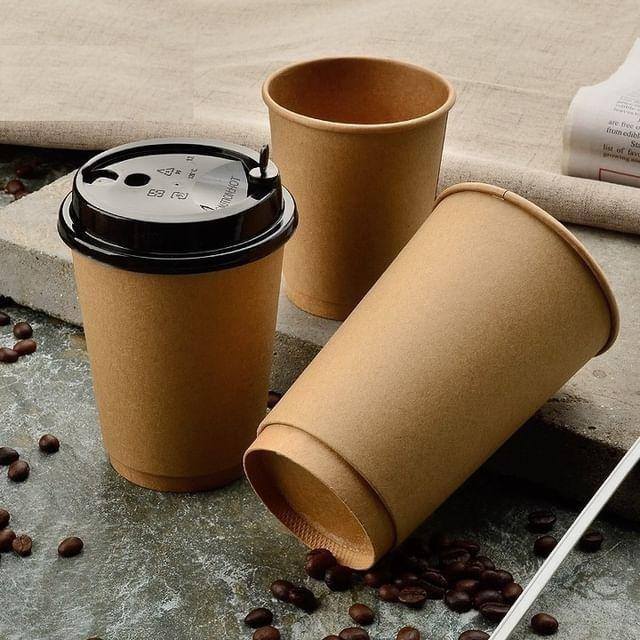cup-disposable: (237, 193, 640, 575), (48, 132, 298, 506), (262, 52, 464, 320)
